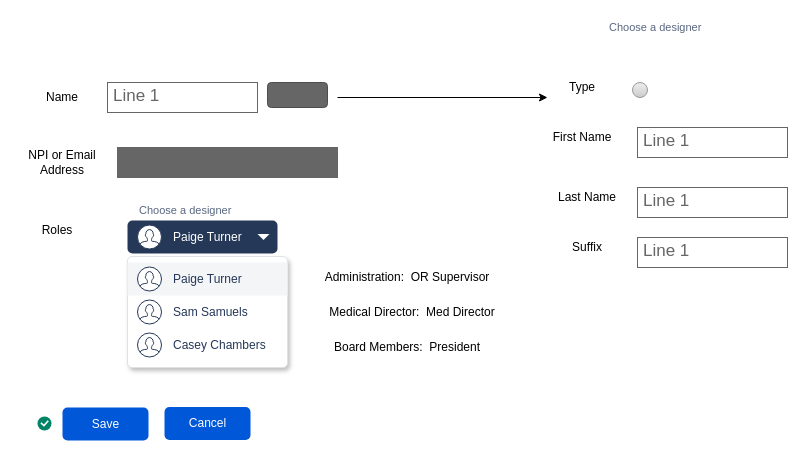
The diagram is 805 pixels wide and 457 high, and some of its shapes have lost their labels. The centre of each missing label's shape, as x and y in pixels:
"New" belongs at pixel 297 95.
"Physician" belongs at pixel 640 90.
